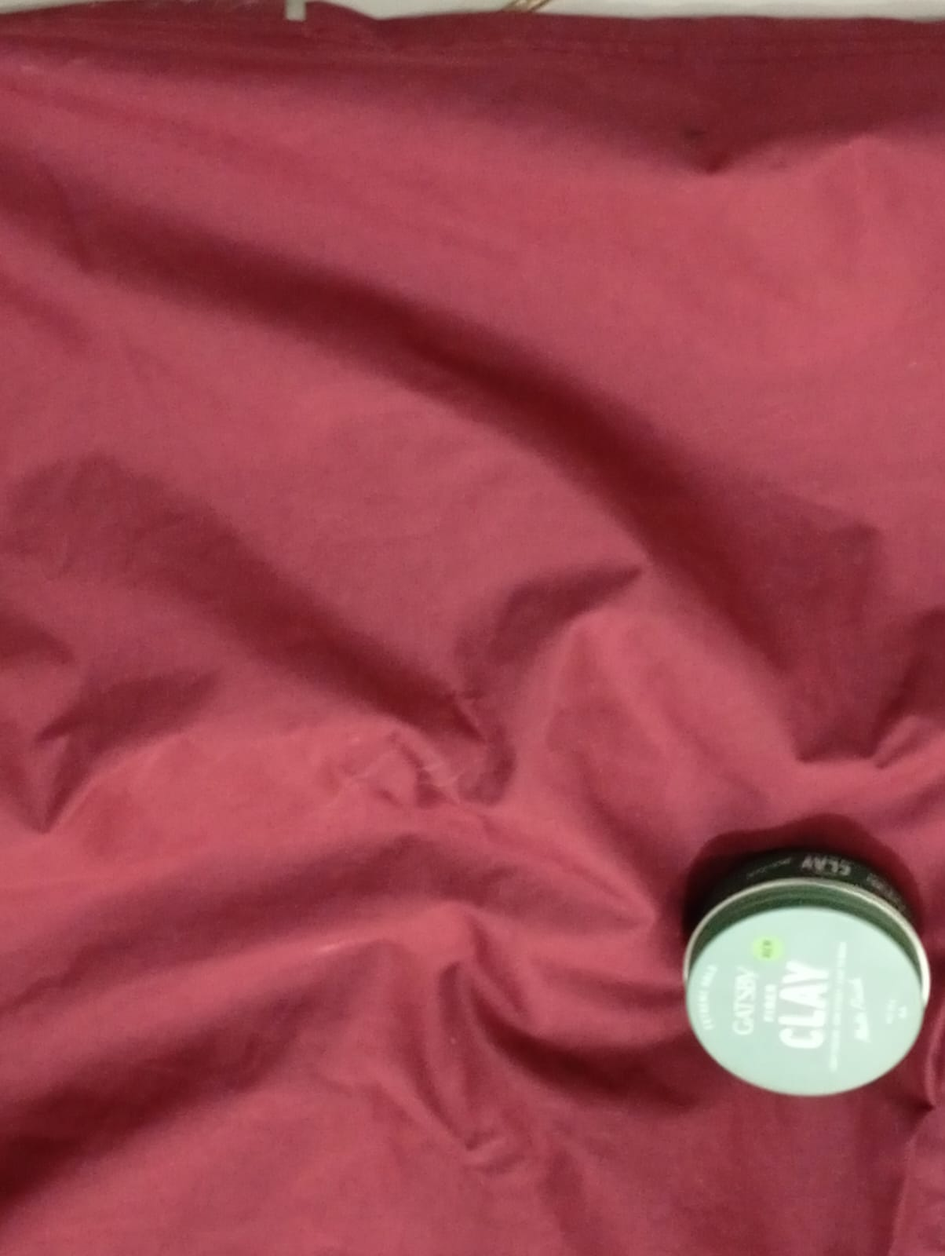Minyak_Rambut: (622, 837, 940, 1108)
